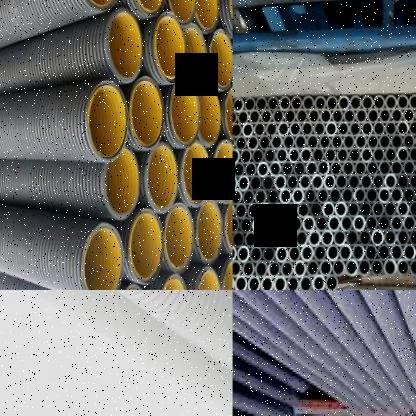pipe: (86, 81, 129, 160), (81, 221, 125, 290), (107, 7, 144, 83), (103, 146, 140, 219), (129, 209, 164, 285), (152, 11, 188, 83), (130, 75, 165, 149), (146, 142, 178, 214), (169, 77, 201, 148), (164, 203, 193, 273), (182, 142, 211, 206), (194, 200, 222, 264), (197, 83, 221, 148), (183, 23, 208, 85), (209, 28, 233, 90), (213, 139, 233, 202), (194, 0, 220, 32), (167, 0, 197, 25), (194, 266, 221, 290), (130, 0, 167, 16), (224, 195, 233, 256), (161, 271, 187, 290), (224, 86, 232, 145), (220, 256, 233, 290), (77, 0, 121, 10), (305, 259, 320, 278), (280, 260, 294, 279), (383, 258, 397, 277), (396, 258, 410, 277), (262, 245, 276, 264), (249, 245, 263, 264), (351, 243, 365, 262), (364, 243, 378, 262), (282, 230, 296, 249), (295, 229, 309, 248), (239, 216, 253, 235), (264, 216, 278, 235), (289, 215, 303, 234), (293, 259, 306, 279), (255, 260, 269, 278), (319, 259, 333, 277), (370, 259, 384, 277), (275, 245, 289, 263), (326, 244, 340, 262), (402, 243, 416, 261), (244, 231, 258, 249), (269, 231, 283, 249), (327, 215, 341, 233), (402, 214, 416, 232), (309, 201, 323, 219), (365, 186, 379, 204), (377, 186, 391, 204), (261, 174, 275, 192), (347, 173, 361, 191), (329, 159, 343, 177), (268, 260, 281, 279), (345, 258, 358, 277), (301, 244, 314, 263), (339, 243, 352, 262), (377, 243, 390, 262), (390, 243, 403, 262), (308, 229, 321, 248), (371, 228, 384, 247), (384, 228, 397, 247), (396, 228, 409, 247), (284, 201, 297, 220), (302, 216, 316, 233), (377, 215, 391, 232), (256, 161, 270, 178), (402, 133, 416, 150), (242, 260, 255, 278), (332, 259, 345, 277), (358, 259, 371, 277), (237, 245, 250, 263), (288, 245, 301, 263), (313, 244, 326, 262), (257, 231, 270, 249), (321, 229, 334, 247), (333, 229, 346, 247), (346, 229, 359, 247), (277, 216, 290, 234), (315, 215, 328, 233), (340, 215, 353, 233), (297, 201, 310, 219), (322, 201, 335, 219), (242, 188, 255, 206), (254, 188, 267, 206), (279, 187, 292, 205), (390, 186, 403, 204), (323, 173, 336, 191), (335, 173, 348, 191), (384, 173, 397, 191), (281, 160, 294, 178), (366, 159, 379, 177), (378, 159, 391, 177), (336, 146, 349, 164), (348, 146, 361, 164), (354, 133, 367, 151), (378, 133, 391, 151), (253, 121, 266, 139), (260, 108, 273, 126), (343, 107, 356, 125), (378, 107, 391, 125), (252, 216, 264, 235), (311, 274, 325, 290), (390, 215, 403, 232), (334, 201, 347, 218), (347, 201, 360, 218), (359, 201, 372, 218), (384, 201, 397, 218), (396, 201, 409, 218), (291, 187, 304, 204), (304, 187, 317, 204), (341, 187, 354, 204), (353, 187, 366, 204), (237, 175, 250, 192), (249, 175, 262, 192), (286, 174, 299, 191), (396, 173, 409, 190), (232, 161, 245, 178), (244, 161, 257, 178), (305, 160, 318, 177), (342, 160, 355, 177), (317, 160, 330, 177), (239, 148, 252, 165), (251, 148, 264, 165), (372, 146, 385, 163), (384, 146, 397, 163), (396, 146, 409, 163), (282, 134, 295, 151), (265, 121, 278, 138), (396, 120, 409, 137), (248, 108, 261, 125), (296, 108, 309, 125), (307, 108, 320, 125), (331, 108, 344, 125), (279, 95, 292, 112), (361, 95, 374, 112), (396, 94, 409, 111), (359, 229, 371, 247), (353, 215, 365, 233), (235, 202, 247, 220), (247, 202, 259, 220), (260, 202, 272, 220), (403, 186, 415, 204), (274, 174, 286, 192), (360, 173, 372, 191), (372, 173, 384, 191), (269, 160, 281, 178), (276, 146, 288, 164), (300, 146, 312, 164), (312, 146, 324, 164), (361, 146, 373, 164), (242, 121, 254, 139), (391, 107, 403, 125), (260, 275, 274, 290), (272, 275, 286, 290), (299, 275, 313, 290), (365, 216, 378, 232), (390, 160, 403, 176), (324, 147, 337, 163), (270, 135, 283, 151), (306, 134, 319, 150), (294, 134, 307, 150), (390, 134, 403, 150), (289, 121, 302, 137), (301, 121, 314, 137), (325, 121, 338, 137), (290, 96, 303, 112), (302, 95, 315, 111), (349, 95, 362, 111), (325, 274, 338, 290), (232, 231, 244, 248), (272, 202, 284, 219), (372, 201, 384, 218), (267, 188, 279, 205), (329, 187, 341, 204), (317, 187, 329, 204), (299, 174, 311, 191), (311, 174, 323, 191), (293, 160, 305, 177), (354, 160, 366, 177), (403, 159, 415, 176), (264, 147, 276, 164), (235, 135, 247, 152), (247, 135, 259, 152), (373, 120, 385, 137), (385, 120, 397, 137), (237, 109, 249, 126), (284, 108, 296, 125), (320, 108, 332, 125), (272, 108, 284, 125), (355, 108, 367, 125), (367, 108, 379, 125), (403, 107, 415, 124), (256, 95, 268, 112), (338, 95, 350, 112), (314, 95, 326, 112), (337, 121, 350, 136), (247, 275, 260, 290), (286, 275, 299, 290), (234, 275, 247, 290), (288, 147, 300, 163), (259, 135, 271, 151), (319, 134, 331, 150), (331, 134, 343, 150), (343, 134, 355, 150), (367, 134, 379, 150), (278, 121, 290, 137), (313, 121, 325, 137), (349, 121, 361, 137), (232, 97, 244, 113), (326, 96, 338, 112), (267, 96, 279, 112), (373, 95, 385, 111), (385, 95, 397, 111), (232, 259, 242, 278), (362, 120, 373, 137), (232, 188, 242, 206), (244, 97, 256, 112), (232, 122, 242, 138), (408, 172, 416, 190), (232, 147, 240, 164), (408, 93, 416, 110), (409, 258, 416, 277), (409, 228, 416, 247), (409, 145, 416, 163), (409, 200, 416, 217), (409, 120, 416, 136), (233, 216, 238, 234), (233, 245, 236, 263), (233, 175, 236, 193), (233, 110, 236, 126)
